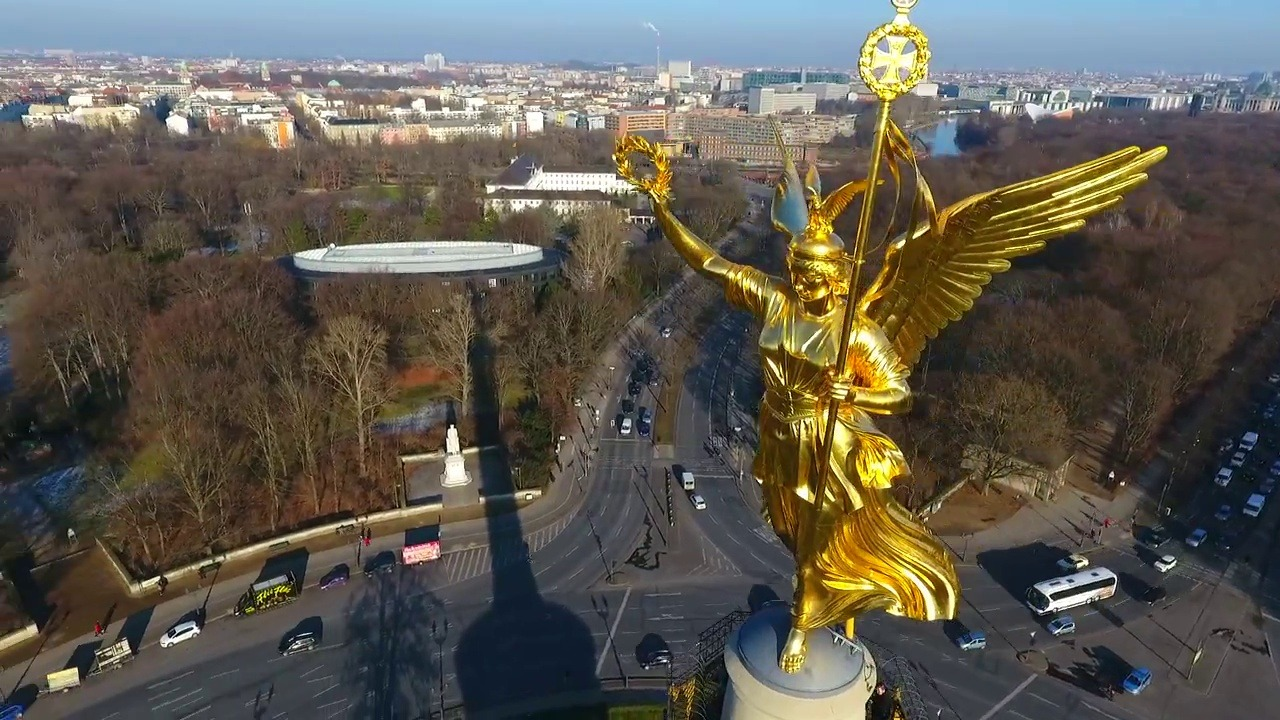bus: (1023, 561, 1129, 618)
car: (155, 613, 207, 651)
